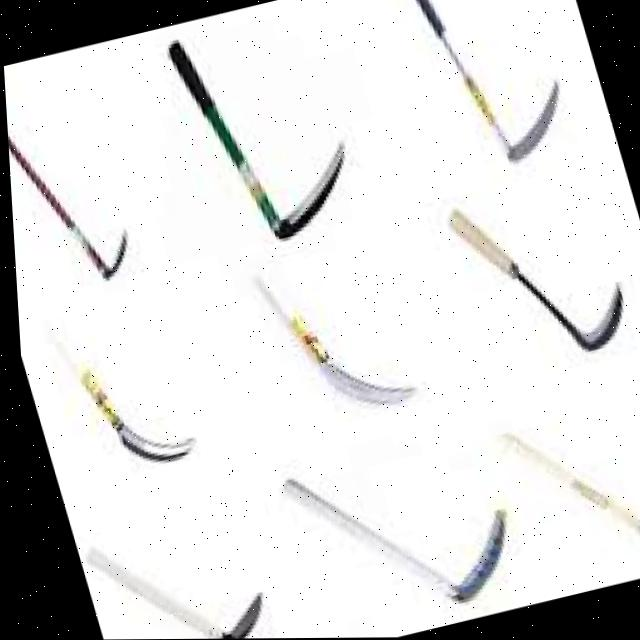sickle: (255, 407, 525, 639), (151, 4, 365, 262), (244, 250, 471, 485), (439, 180, 640, 393), (3, 54, 161, 323), (63, 470, 282, 640), (391, 0, 575, 193), (496, 380, 640, 585), (54, 330, 209, 479)
